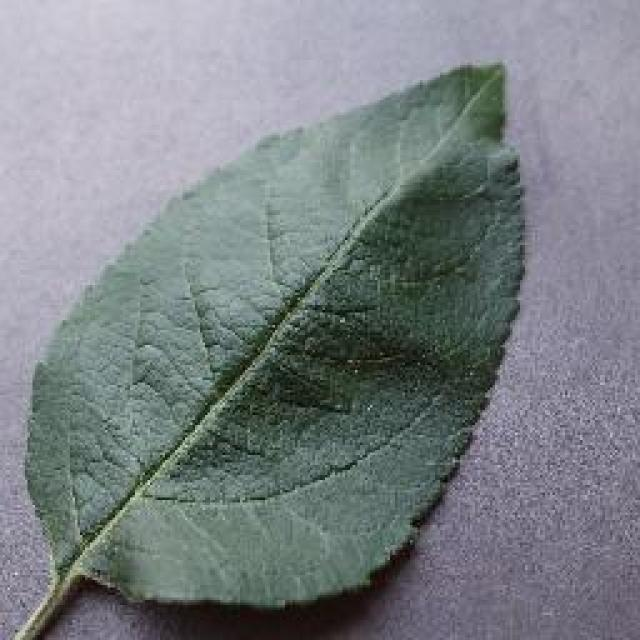apple healthy: (0, 58, 530, 638)
